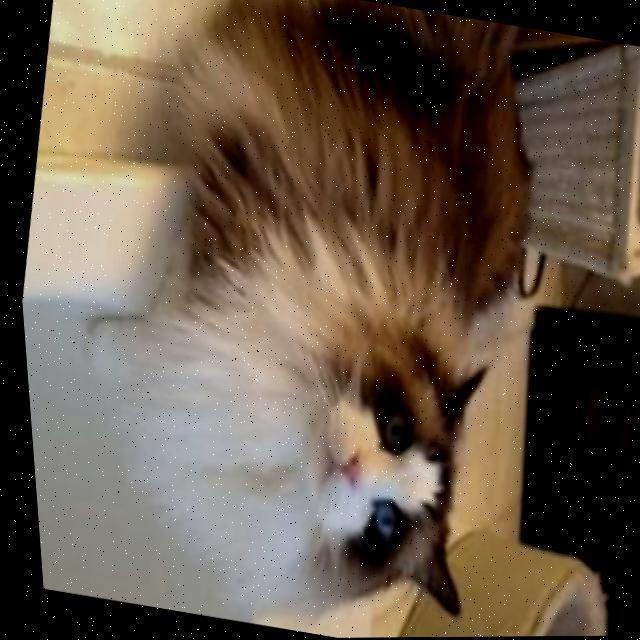Ragdoll: (11, 0, 595, 640)
